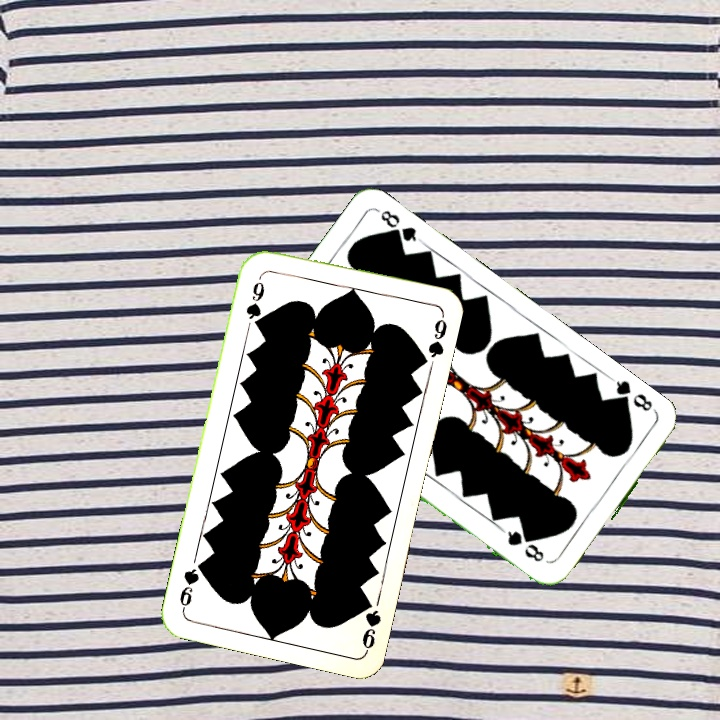G8: (609, 376, 660, 416)
G9: (358, 593, 384, 654), (242, 271, 267, 330)
